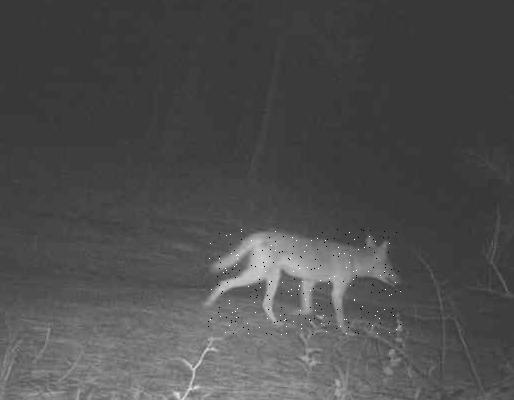Coyote: (208, 229, 402, 335)
